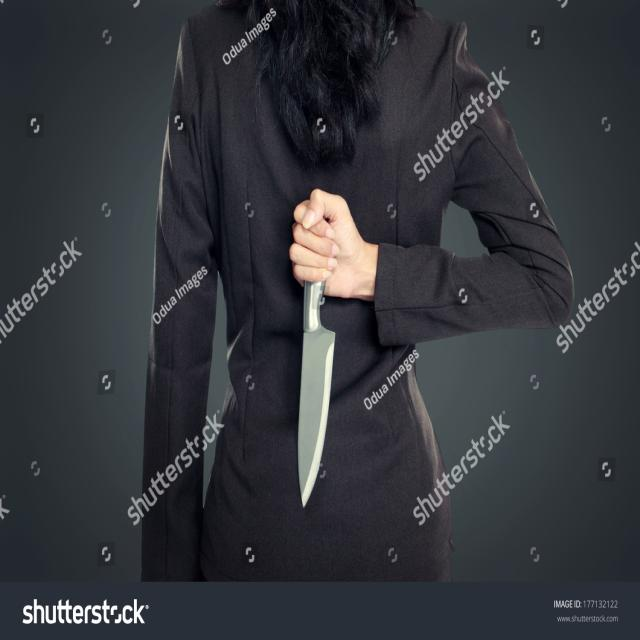knife: (296, 277, 340, 510)
